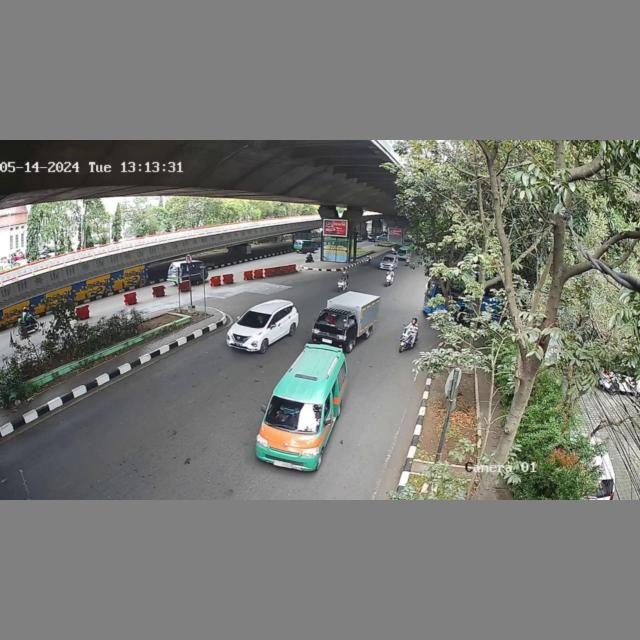windshield: (267, 395, 321, 433), (237, 311, 271, 330), (317, 312, 349, 330)
